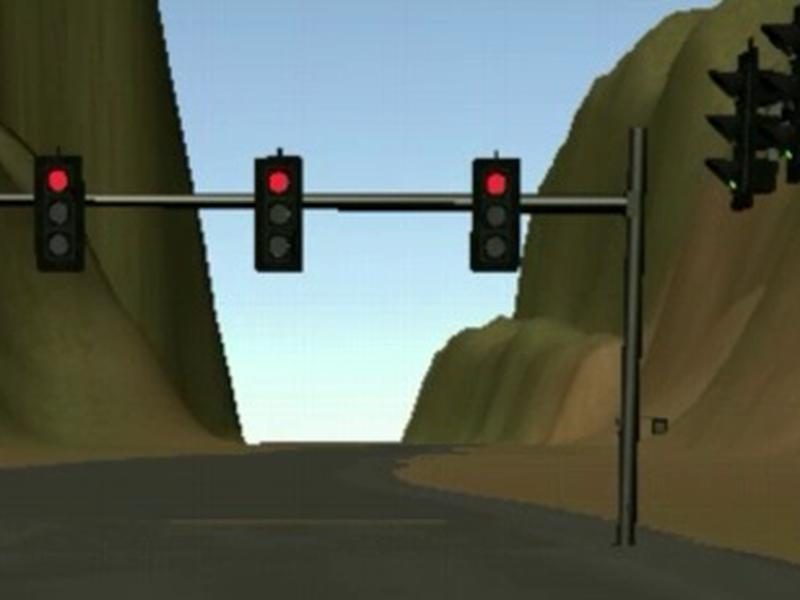Red: (34, 156, 84, 272), (253, 155, 302, 273), (469, 159, 520, 271)
